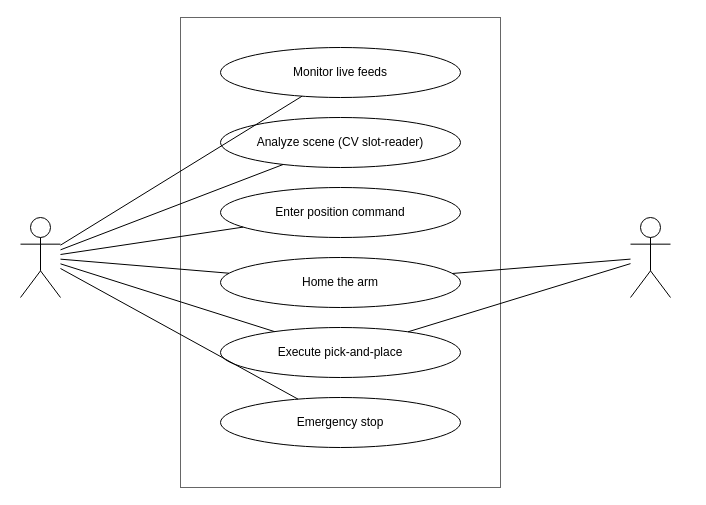
Some shapes in this 706 by 505 pixel diagram are drawn without their labels. The box of each missing label's shape, as (x1, y1, x2, y2) in pixels:
Operator: (20, 216, 60, 298)
SO-101 Robot: (630, 216, 670, 298)
Vial-Sort Control Panel: (180, 16, 500, 488)
